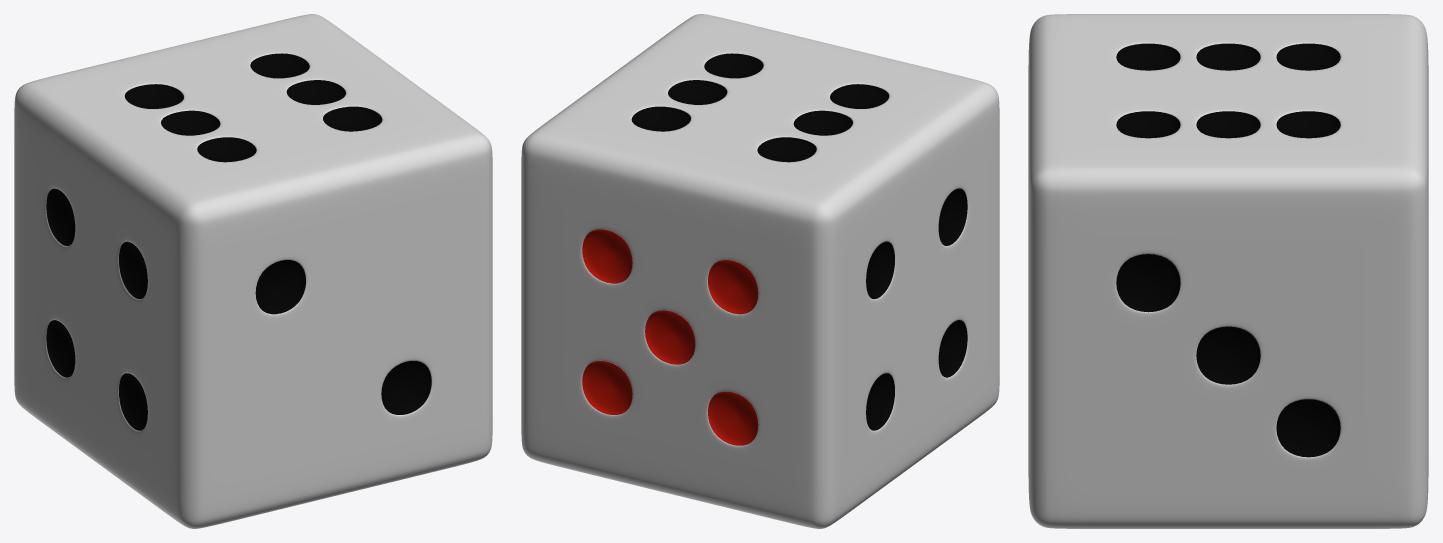
File: Dice.fbx
3 views of the same model, side by side, from view 1: azimuth 30°, elevation 25°; view 2: azimuth 150°, elevation 25°; view 3: azimuth 270°, elevation 25° (orthographic). The views are drawn at different scales.
Visible parts, largest first — view 1: Cube; view 2: Cube; view 3: Cube.
Boxes of the visible parts, left/top/right/bottom form: Cube: left=14, top=14, right=492, bottom=528; Cube: left=521, top=14, right=999, bottom=528; Cube: left=1028, top=14, right=1428, bottom=528.
Size of the model in its own units: 200 by 200 by 200.
